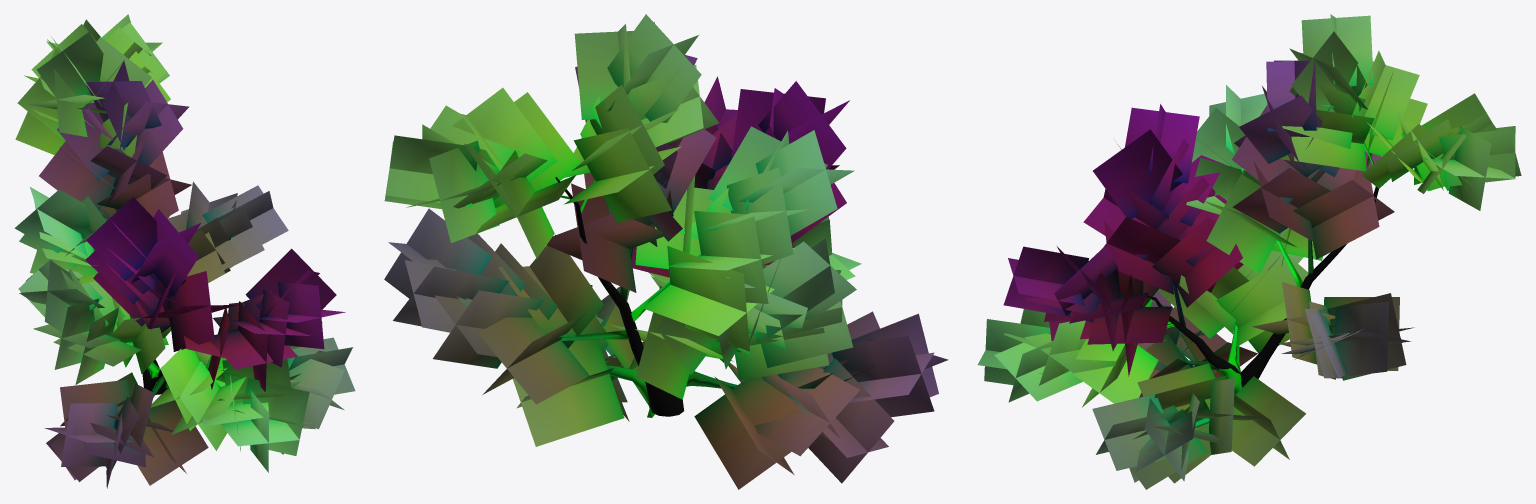
Rendered from URP_P11_Tree_6_LOD_2.fbx.
The picture shows the model from 3 angles, left to right: view 1: azimuth 30°, elevation 25°; view 2: azimuth 150°, elevation 25°; view 3: azimuth 270°, elevation 25°; orthographic projection. The views are drawn at different scales.
Visible parts, largest first — view 1: Tree_6_LOD_2; view 2: Tree_6_LOD_2; view 3: Tree_6_LOD_2.
Part boxes in pixels (left/top/right/bottom): Tree_6_LOD_2: left=14, top=14, right=355, bottom=488; Tree_6_LOD_2: left=384, top=14, right=948, bottom=489; Tree_6_LOD_2: left=977, top=14, right=1521, bottom=489.
Size of the model in its own units: 573 by 671 by 793.
